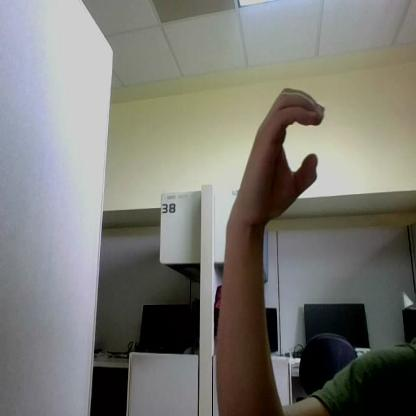C: (243, 86, 325, 218)
